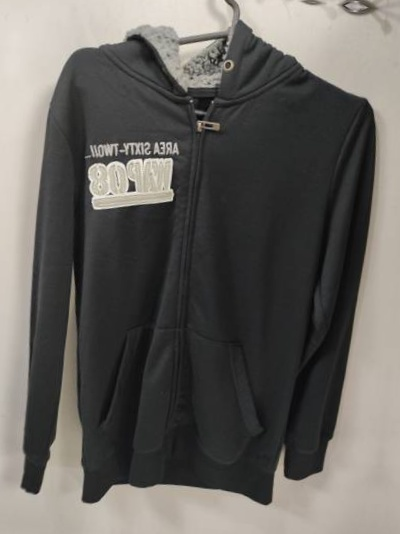Hoodie: (0, 0, 391, 526), (0, 0, 2, 487)
